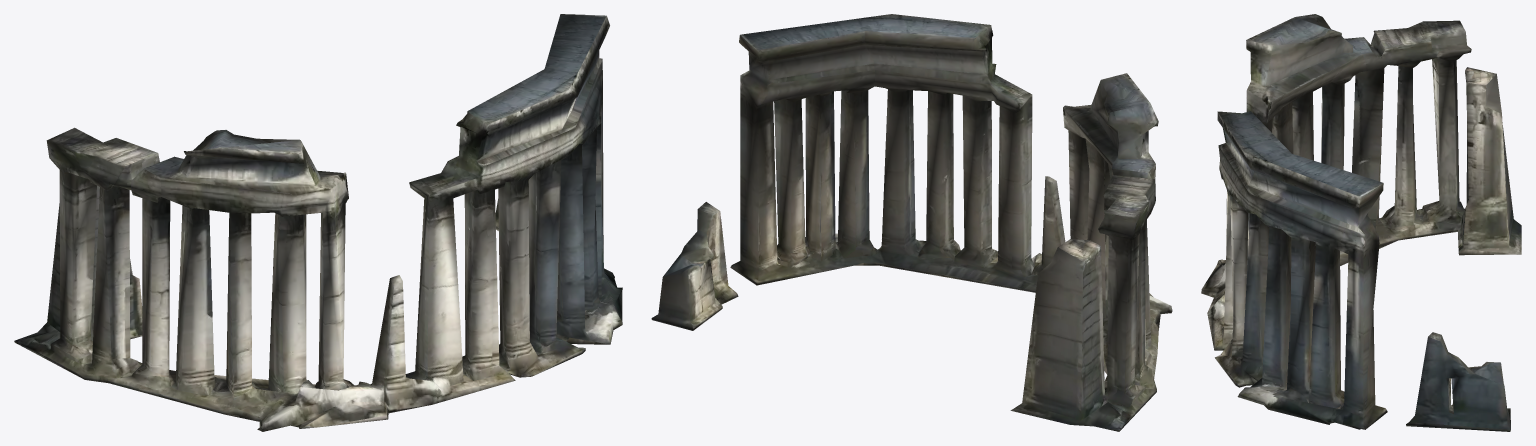
The model's file is stone_ruins_with_sanctuary_and_columns.glb.
3 renders of one model, left to right at view 1: azimuth 30°, elevation 25°; view 2: azimuth 150°, elevation 25°; view 3: azimuth 270°, elevation 25°, orthographic. The views are drawn at different scales.
Visible parts, largest first — view 1: Object_4; view 2: Object_4; view 3: Object_4.
Part boxes in pixels (box(x1,y1,x2,y2)): Object_4: box(14, 14, 622, 431); Object_4: box(651, 14, 1172, 431); Object_4: box(1201, 14, 1521, 431).
Size of the model in its own units: 1.99 by 0.9549 by 1.21.
1 material, 1 textured.
